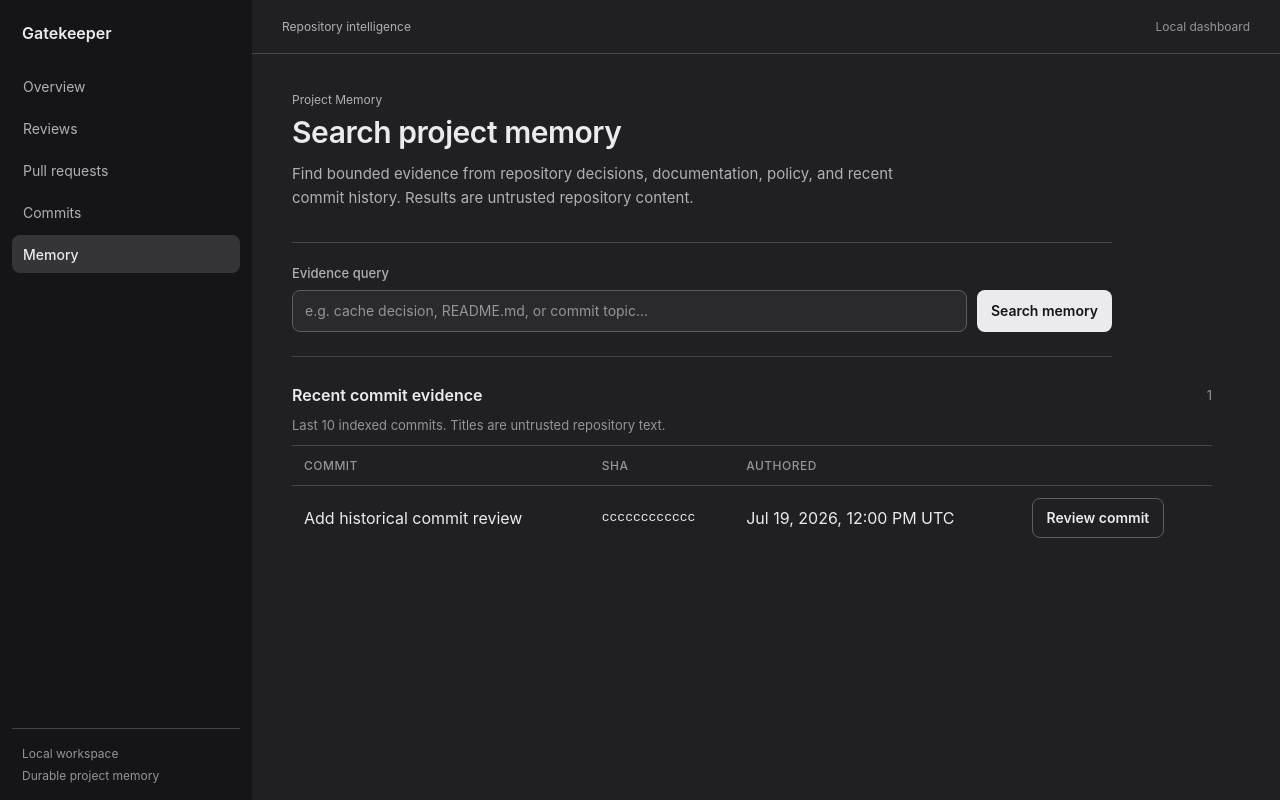
Scenario: Project Memory search › does not search on navigation and searches on submit
The width and height of the screenshot is (1280, 800).
Expected: the text "Add historical commit review" is shown, left=292, top=485, right=590, bottom=550
Type "redis cache" into the search field labelled "Evidence query".
click(629, 310); type("redis cache")  # box left=292, top=290, right=967, bottom=332
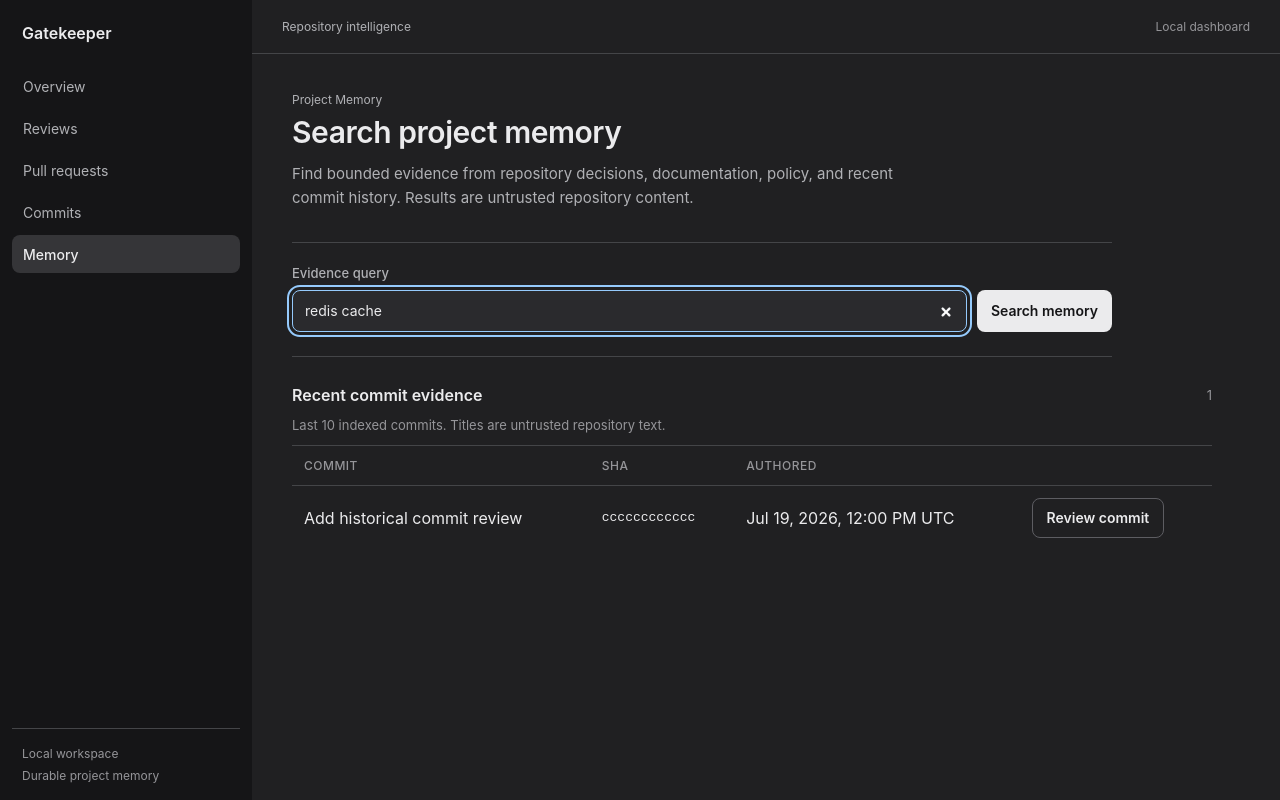
Click the button "Search memory".
click(1044, 310)  # box left=977, top=290, right=1112, bottom=332
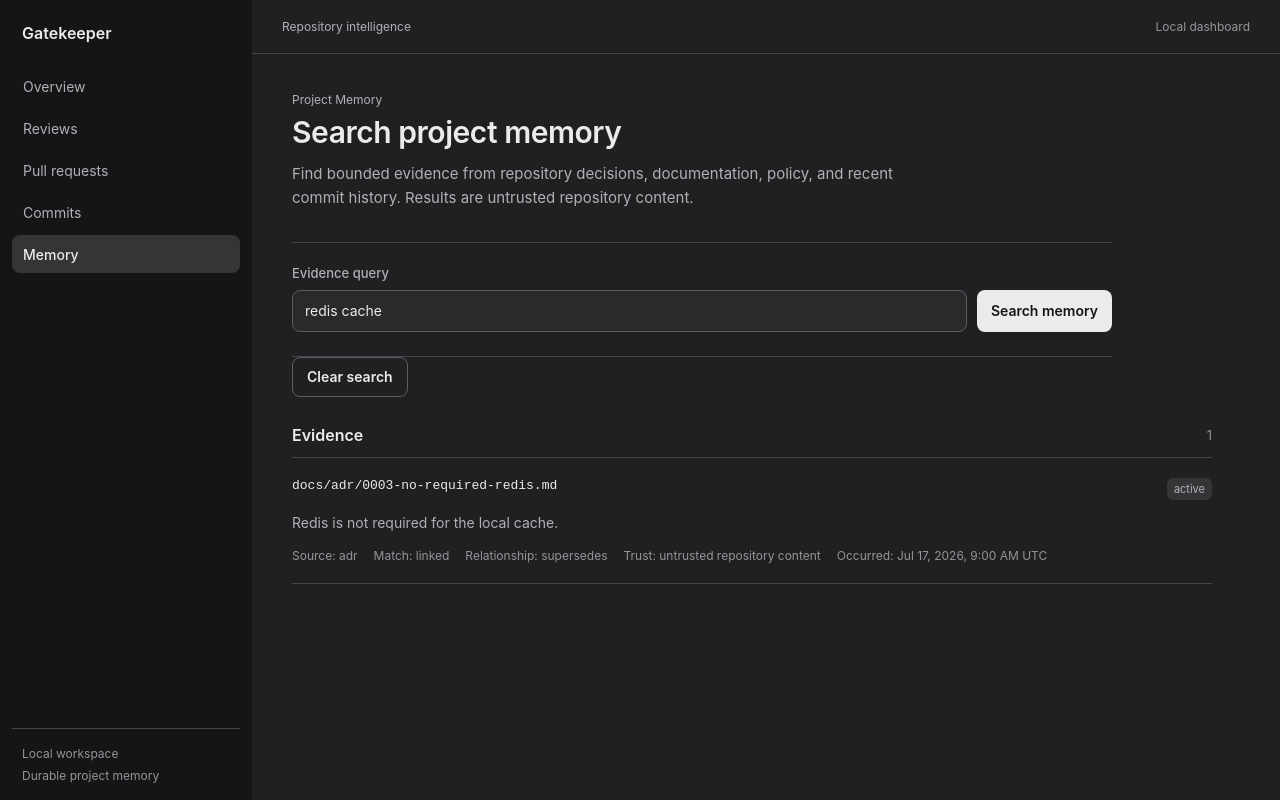
Expected: the text "Redis is not required for the local cache." is shown, left=292, top=514, right=558, bottom=530
Expected: the text "Relationship: supersedes" is shown, left=465, top=548, right=607, bottom=563
Expected: the text "Add historical commit review" is gone
